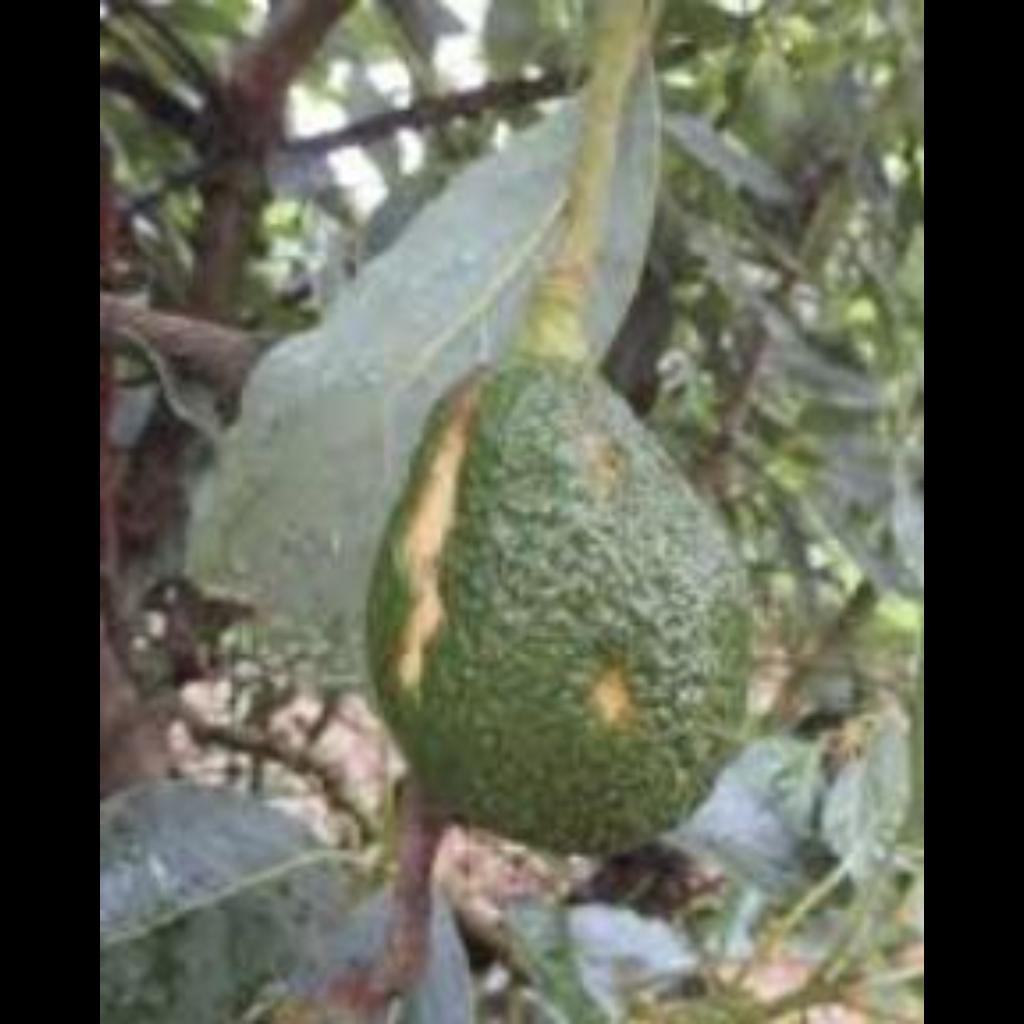sunblotch: (374, 352, 754, 843)
